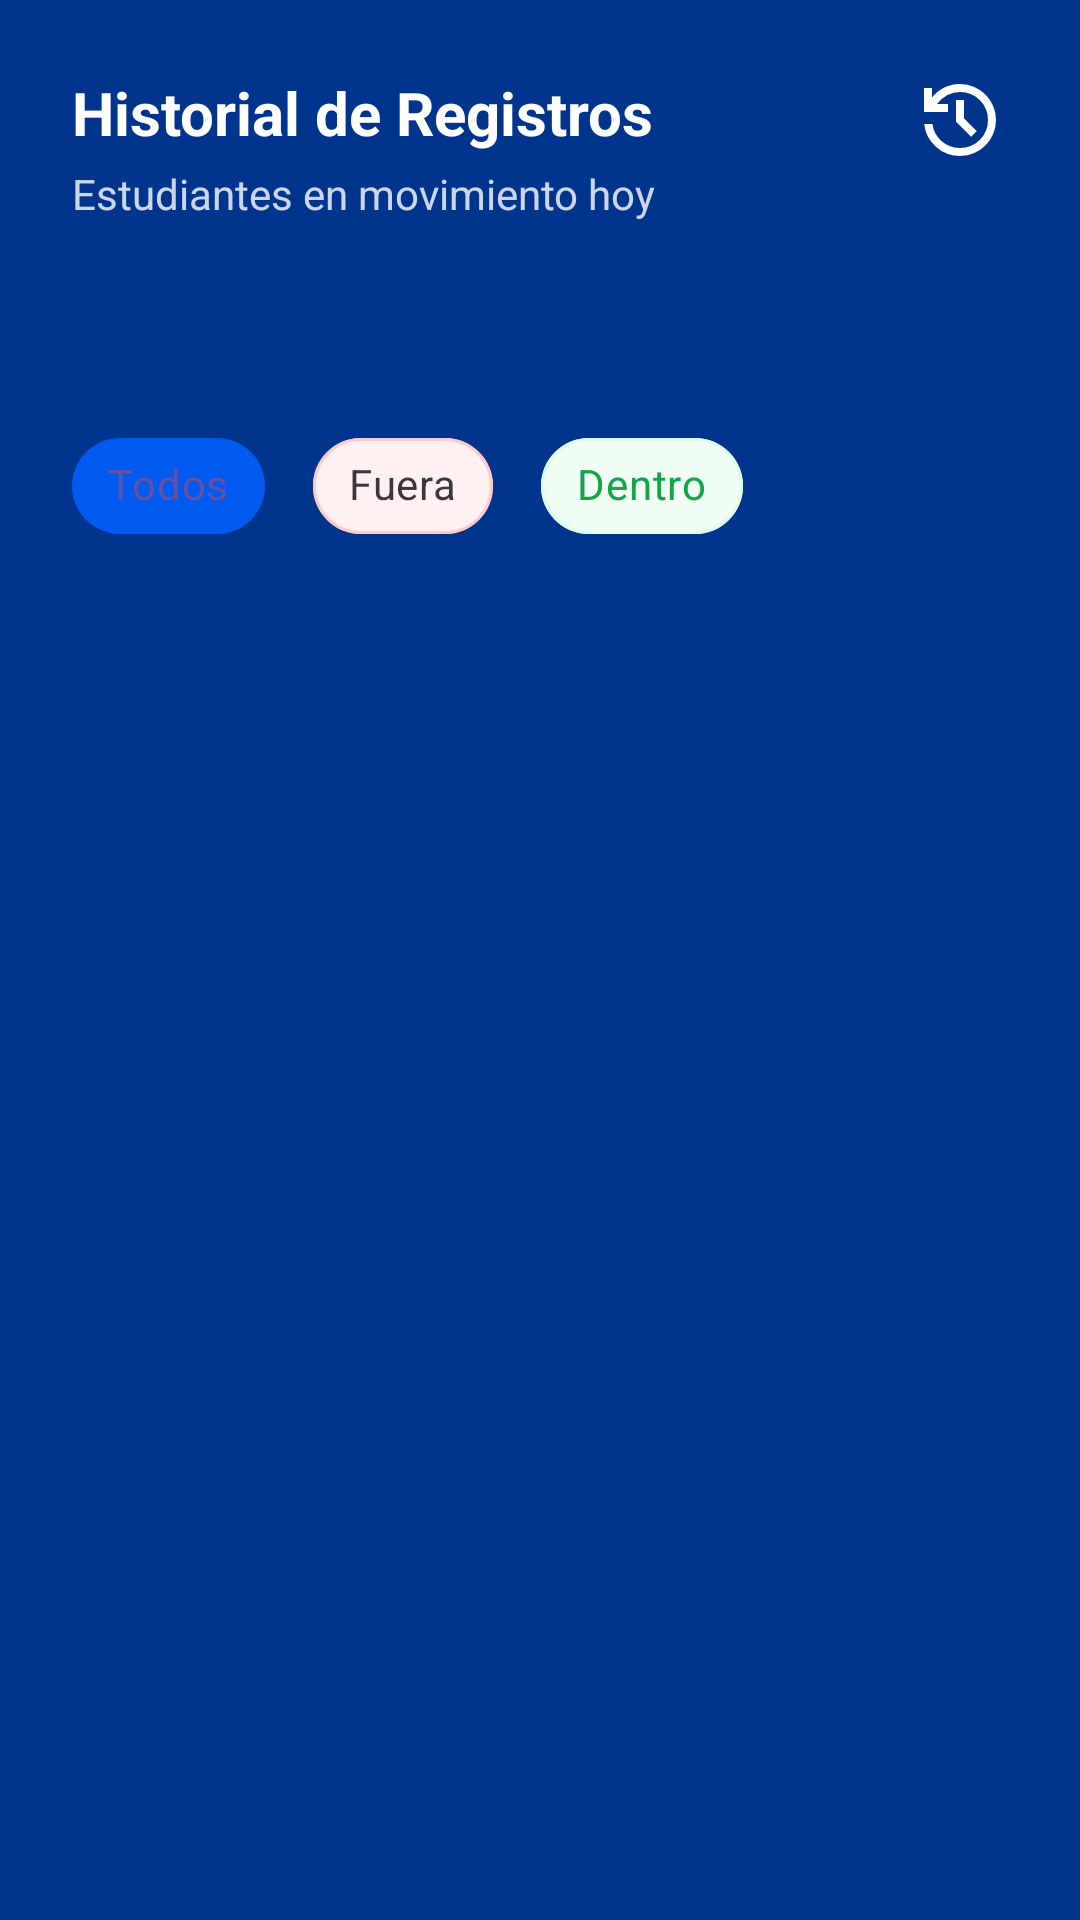

Point at icon controls on the screen. Image size 1080px×1920px, points as [x,y].
history: [960,120]
